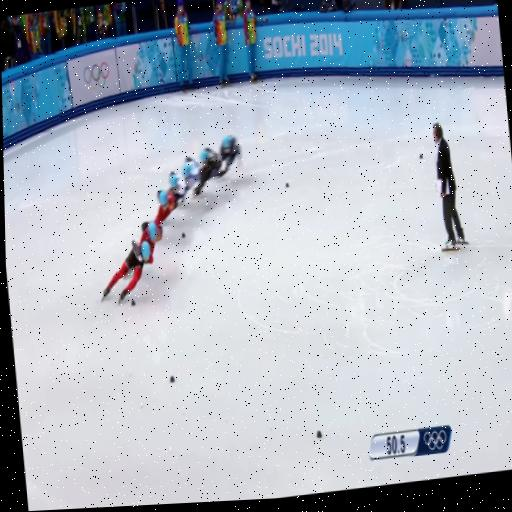Skater: (103, 241, 153, 303), (194, 147, 222, 195), (218, 136, 242, 176), (155, 190, 177, 226), (139, 222, 162, 255), (182, 157, 201, 191), (169, 171, 187, 204)
